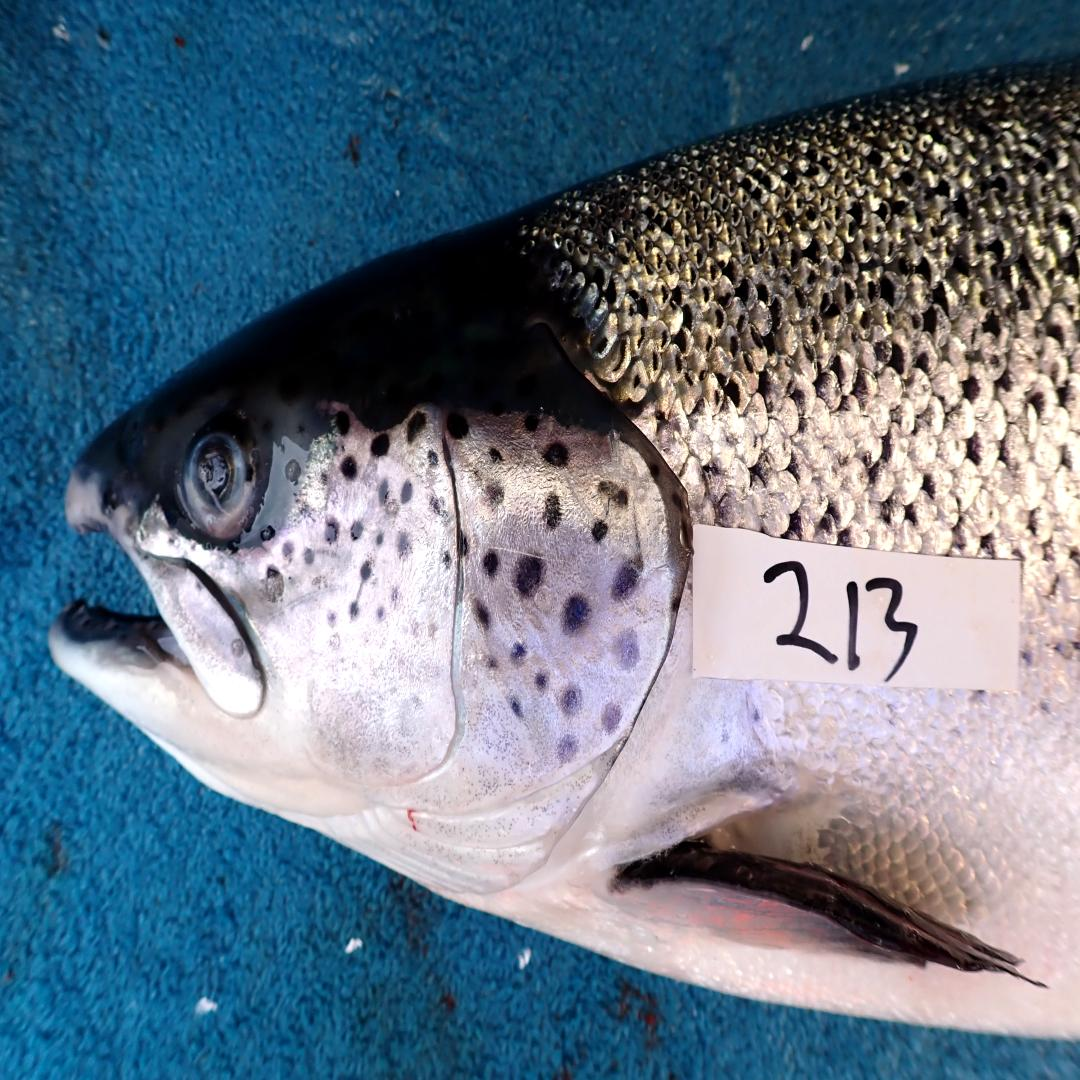roi: (260, 400, 688, 901)
